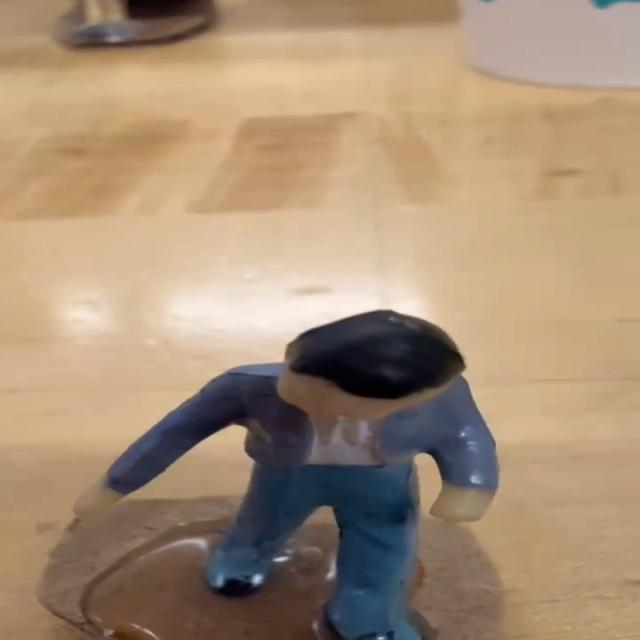Authorized: (54, 299, 548, 640)
